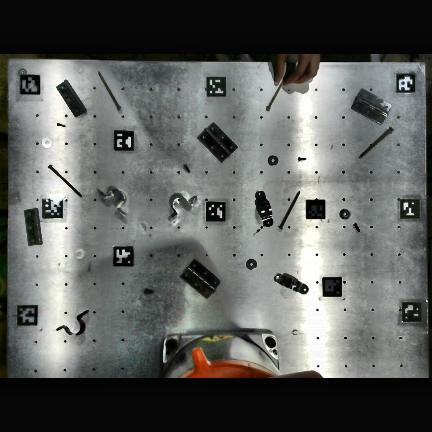black_screw: (353, 223, 360, 232), (183, 165, 190, 173), (144, 289, 150, 294), (58, 123, 65, 126), (299, 158, 306, 160)
clamp: (57, 310, 89, 335), (98, 188, 126, 215), (169, 194, 196, 220), (275, 274, 309, 294), (255, 190, 273, 226)
golden_screw: (48, 165, 81, 196), (360, 128, 393, 157), (98, 72, 121, 110), (279, 192, 300, 229), (267, 84, 282, 111)
hinge: (181, 260, 220, 298), (199, 123, 236, 161), (352, 90, 391, 124), (57, 80, 86, 116), (25, 208, 42, 245)
marker: (17, 304, 38, 325), (400, 198, 420, 219), (42, 198, 62, 218), (113, 246, 133, 266), (114, 130, 134, 150), (206, 75, 226, 95), (403, 300, 422, 321), (206, 201, 225, 222), (20, 75, 40, 94), (396, 73, 415, 93), (306, 200, 325, 219), (323, 278, 342, 296)
washer: (42, 137, 53, 148), (246, 259, 256, 269), (340, 209, 350, 219), (268, 155, 278, 165), (74, 249, 84, 259)
